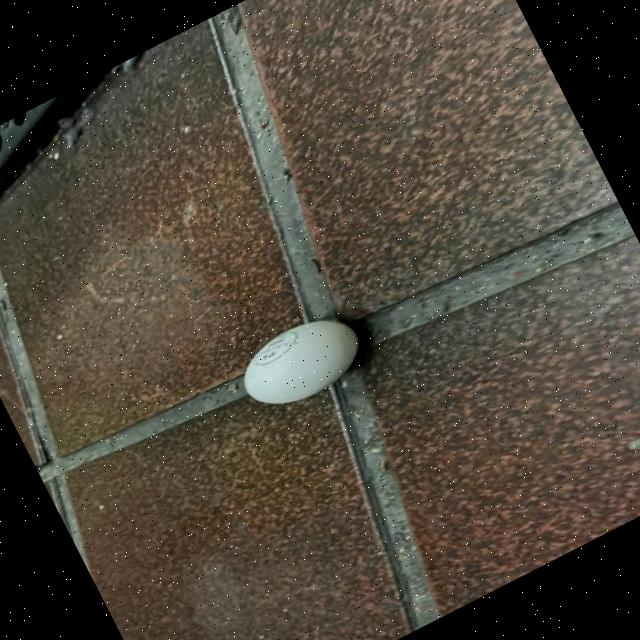ping-pong-ball: (224, 296, 378, 426)
